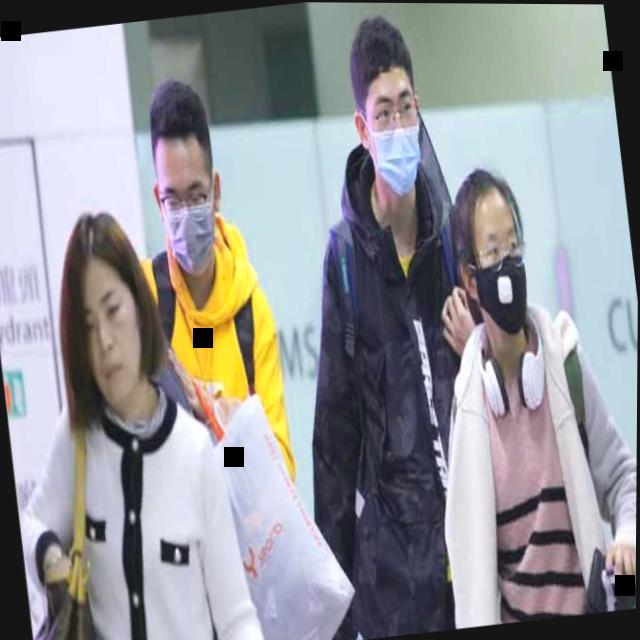Mask: (337, 2, 431, 208), (140, 69, 228, 287), (444, 154, 538, 358)
NO-Mask: (54, 198, 159, 417)
